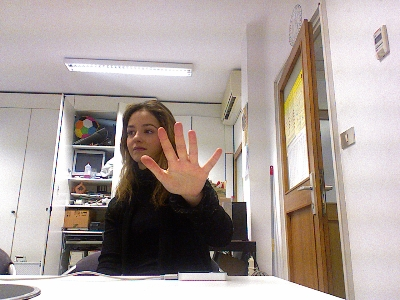布: (141, 121, 223, 196)
